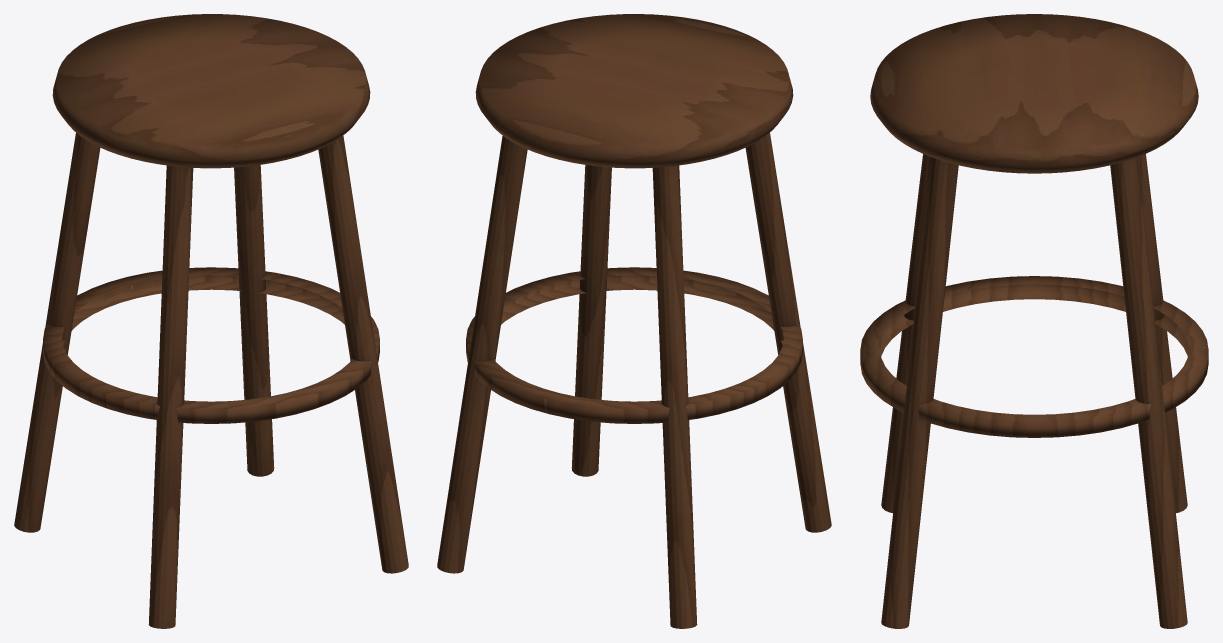
Rendered from walnut-wood-counter.glb.
The picture shows the model from 3 angles, left to right: view 1: azimuth 30°, elevation 25°; view 2: azimuth 150°, elevation 25°; view 3: azimuth 270°, elevation 25°; orthographic projection. The views are drawn at different scales.
Visible parts, largest first — view 1: wood_v, wood_h; view 2: wood_v, wood_h; view 3: wood_v, wood_h.
Part boxes in pixels (bbox=[...]): wood_v: bbox=[14, 133, 408, 628]; wood_h: bbox=[52, 14, 370, 168]; wood_v: bbox=[437, 133, 831, 628]; wood_h: bbox=[475, 14, 793, 168]; wood_v: bbox=[860, 154, 1208, 628]; wood_h: bbox=[870, 14, 1198, 173].
Bounding box in the file's own units: 0.424 × 0.6624 × 0.424.
Materials: 2 (2 with a texture image).
